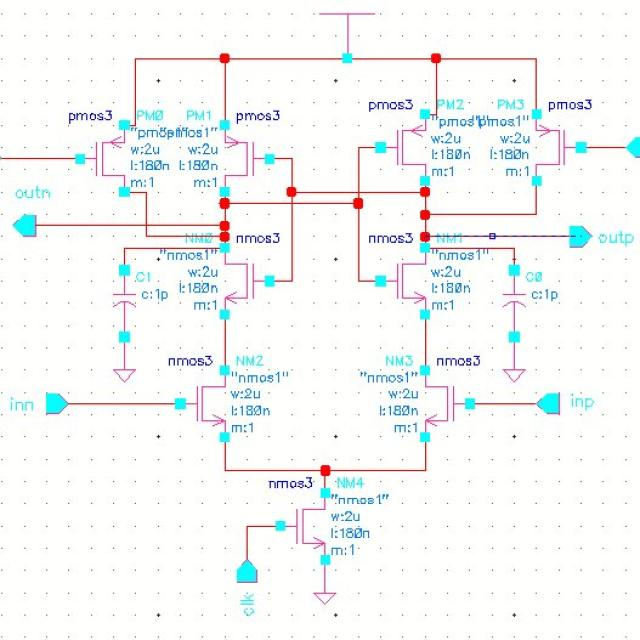cap: (108, 263, 141, 343), (496, 266, 530, 343)
gnd: (500, 331, 532, 389), (110, 329, 140, 390)
nmos: (366, 232, 432, 323), (165, 354, 232, 443), (418, 355, 483, 442), (216, 243, 277, 323), (270, 488, 332, 566)
pmos: (65, 108, 133, 201), (366, 96, 432, 186), (529, 100, 593, 188), (218, 108, 280, 194)
vdd: (313, 9, 382, 67)
